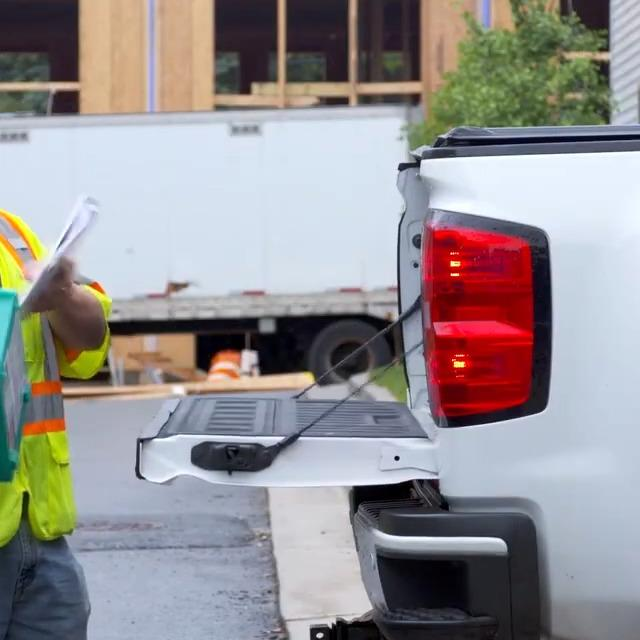Person: (0, 44, 113, 640)
Safety Vest: (0, 195, 111, 557)
trailer: (0, 100, 423, 385)
truck: (134, 117, 640, 640)
